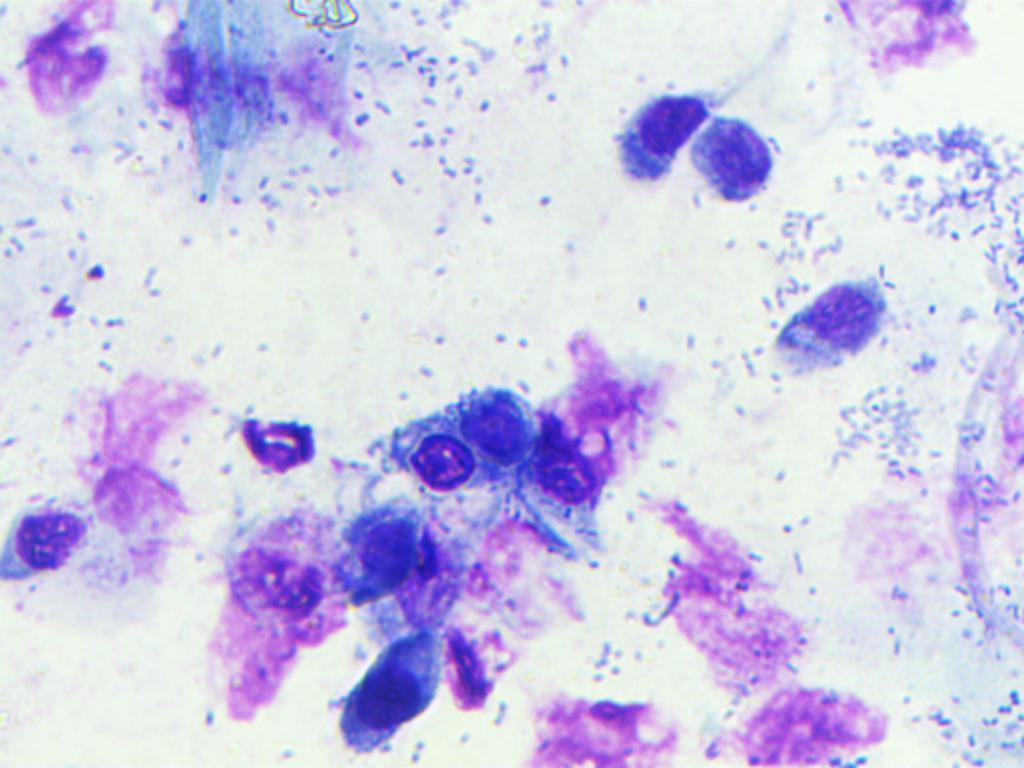artifact: (64, 378, 211, 584), (650, 510, 798, 693), (216, 507, 339, 710), (719, 659, 901, 768), (512, 679, 691, 768), (823, 0, 971, 99), (28, 10, 122, 140), (227, 405, 337, 476)
epithelial: (759, 252, 906, 390)
lymphocyte: (510, 409, 626, 568), (331, 486, 456, 616), (453, 386, 538, 477), (398, 430, 487, 508)
metaplastic: (309, 604, 476, 750), (601, 86, 704, 183), (692, 120, 785, 216)
neutrophil: (0, 490, 98, 596)
